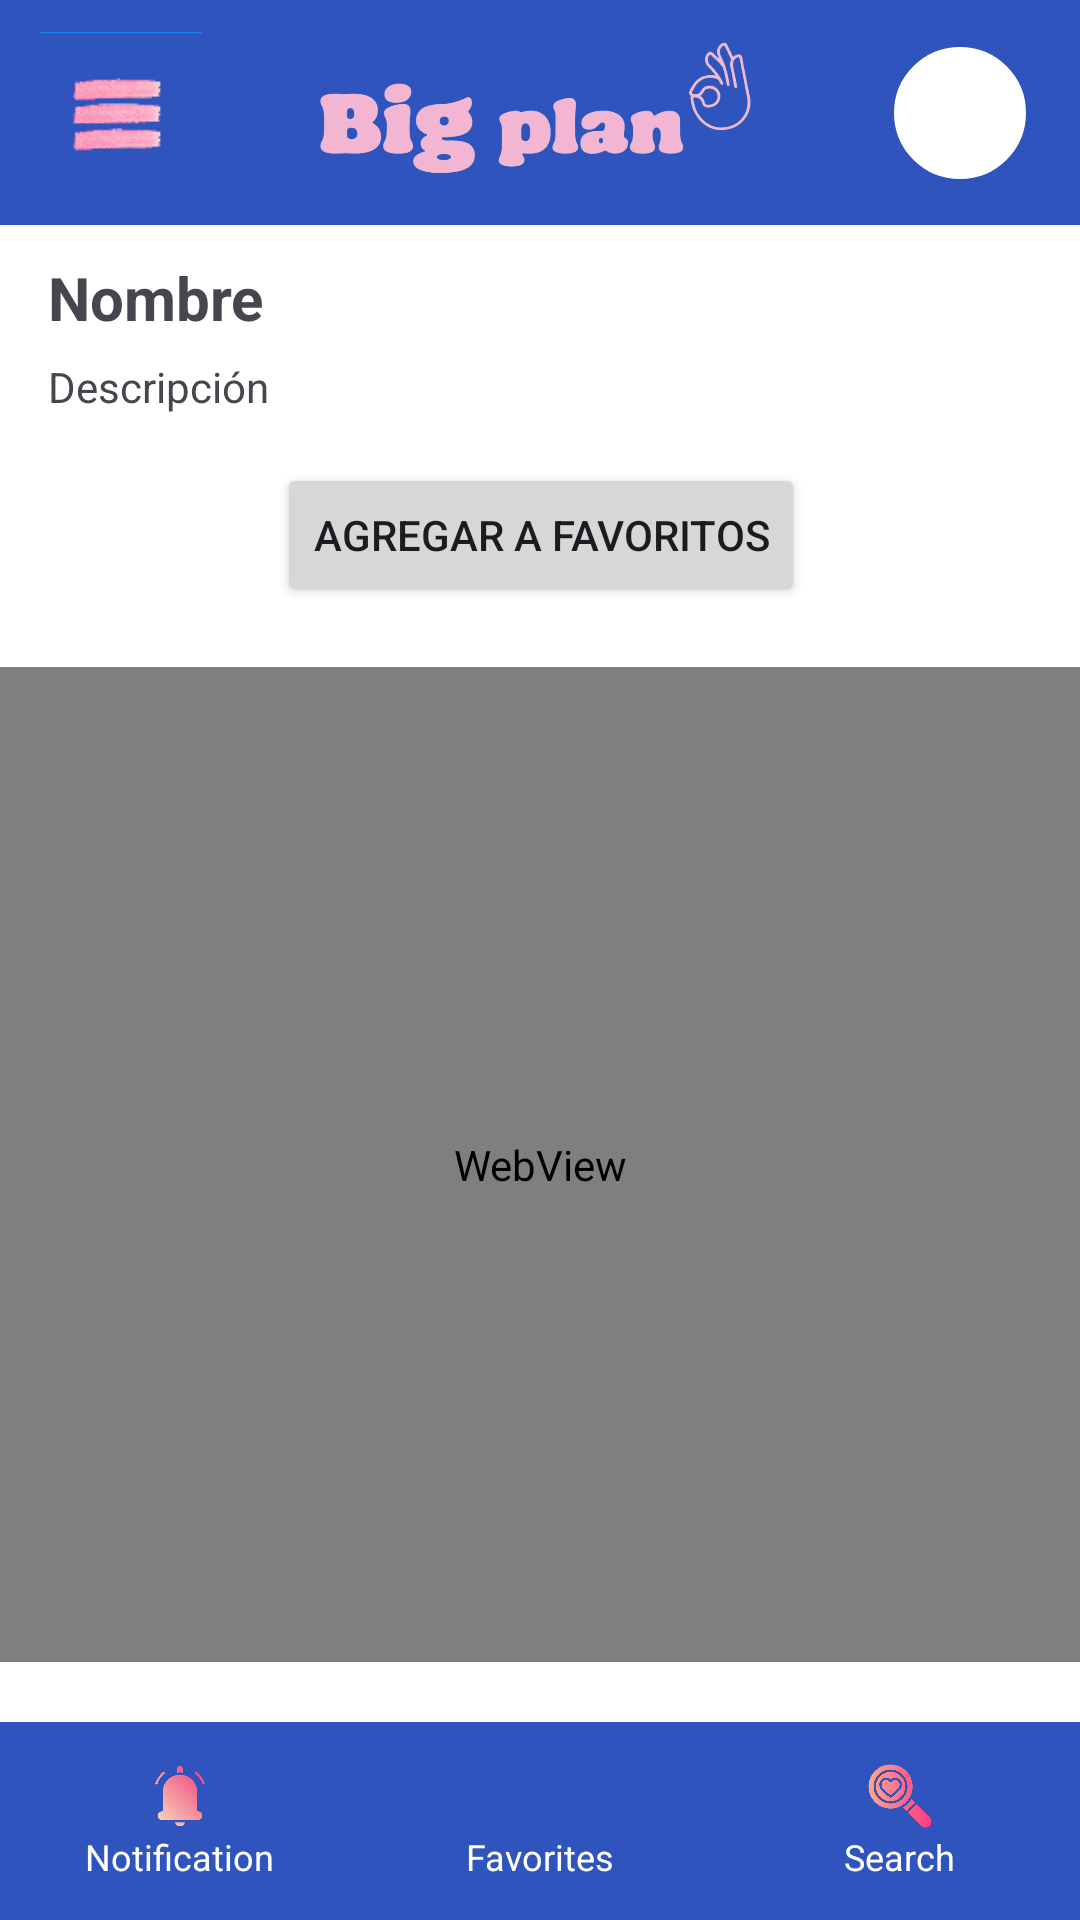

Named icons in this screenshot (1080*1920) and their bounding boxes, (x1, y1, x2, y2):
Menú: (40, 32, 202, 151)
